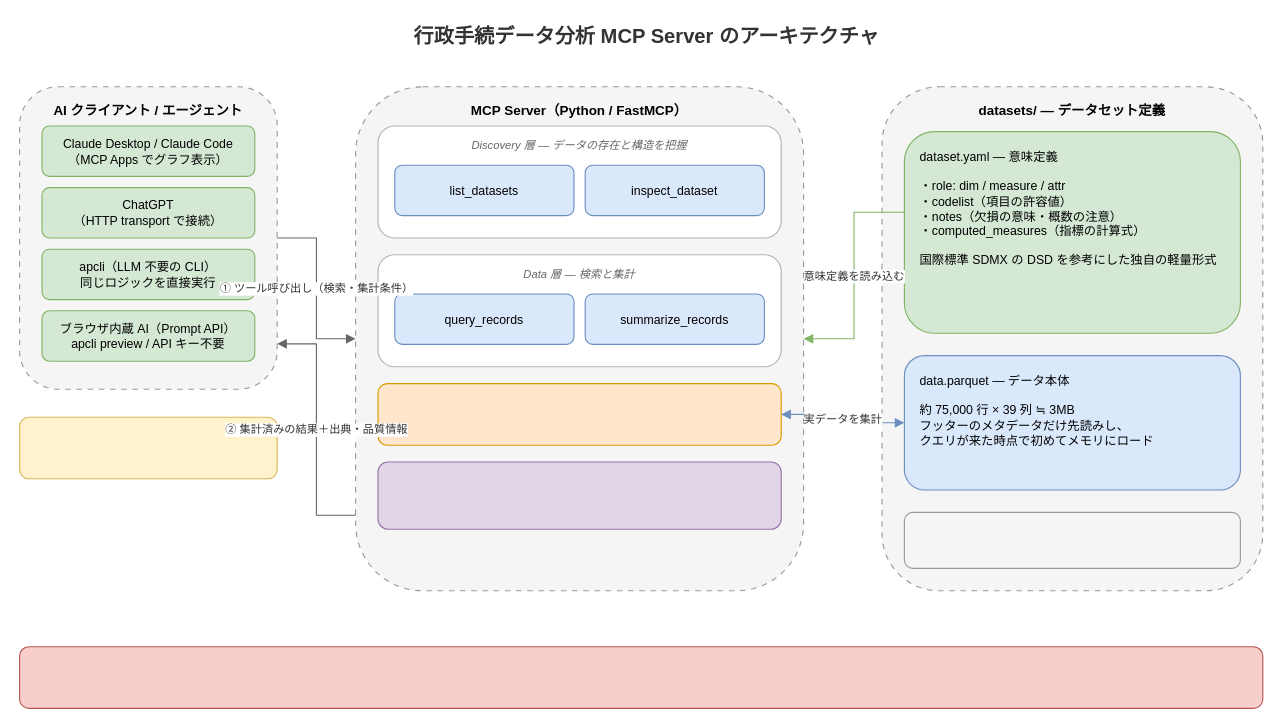
This 1282x728 diagram has some shape labels left out. The shapes that lost their labels are listed below. From the top down, each one's centre as x and y in pixels, then its label:
At point (579, 413): "集計エンジン（group-by / metrics / computed_measures） 算術処理はすべてサーバー側で完結".
At point (147, 447): "LLM が担うのは 「検索・集計条件の指定」だけ".
At point (579, 495): "レスポンス層（MCP 非依存） columns / rows の列指向形式＋ provenance・notes・quality_summary".
At point (1071, 539): "データ本体はリポジトリに同梱せず、apcli fetch で配布元から取得".
At point (640, 677): "ポイント：75,000 件の生データを LLM に読ませない。LLM は条件を指定するだけで、算術と意味解釈は MCP サーバー側で完結させる".
